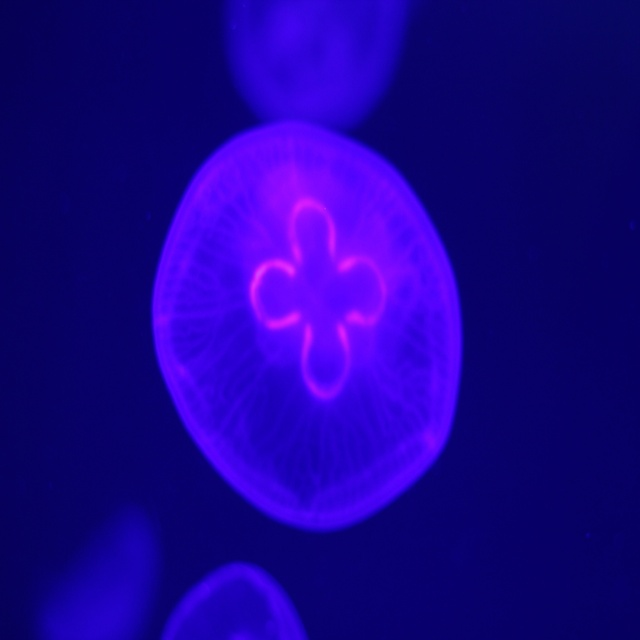Jellyfish: (148, 115, 465, 536), (222, 0, 408, 130), (158, 564, 305, 639)
